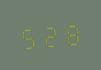eight: (61, 19, 81, 47)
five: (18, 22, 38, 50)
two: (40, 20, 60, 49)
